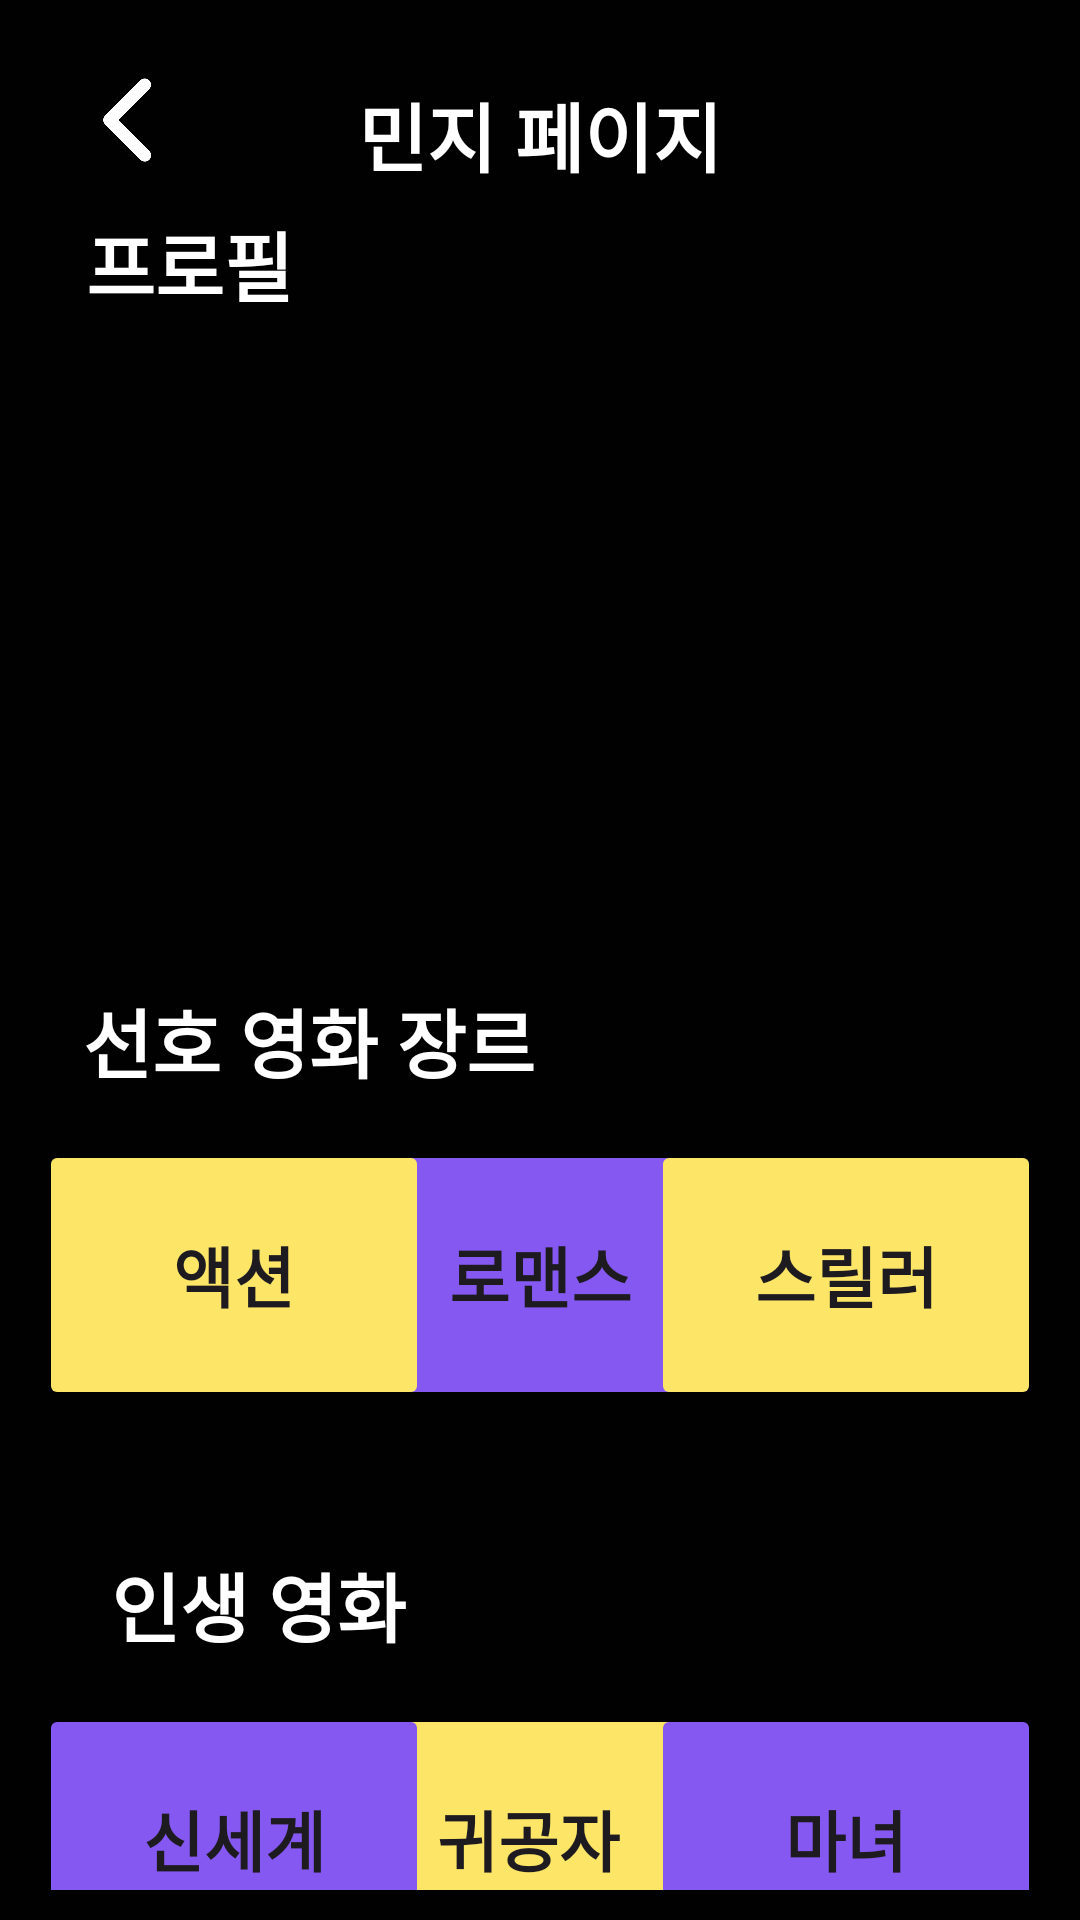

Where to tap for icons on this 1080 × 1920 app screen, as [x,y]:
back: [127,120]
